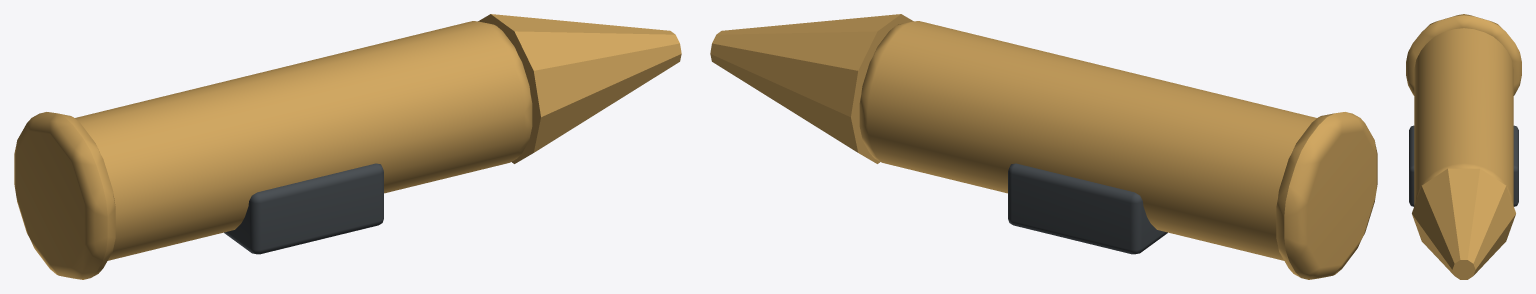
Rendered from Cartridge.glb.
3 renders of one model, left to right at view 1: azimuth 30°, elevation 25°; view 2: azimuth 150°, elevation 25°; view 3: azimuth 270°, elevation 25°, orthographic. The views are drawn at different scales.
Visible parts, largest first — view 1: Cartridge_Fang_Brass, Cartridge_Fang_Iron; view 2: Cartridge_Fang_Brass, Cartridge_Fang_Iron; view 3: Cartridge_Fang_Brass, Cartridge_Fang_Iron.
Part boxes in pixels (x1=…): Cartridge_Fang_Brass: x1=14, y1=14, x2=681, y2=279; Cartridge_Fang_Iron: x1=224, y1=163, x2=383, y2=254; Cartridge_Fang_Brass: x1=710, y1=14, x2=1377, y2=279; Cartridge_Fang_Iron: x1=1008, y1=163, x2=1167, y2=254; Cartridge_Fang_Brass: x1=1406, y1=14, x2=1521, y2=279; Cartridge_Fang_Iron: x1=1409, y1=125, x2=1518, y2=206.
Size of the model in its own units: 0.084 by 0.0203 by 0.02.
